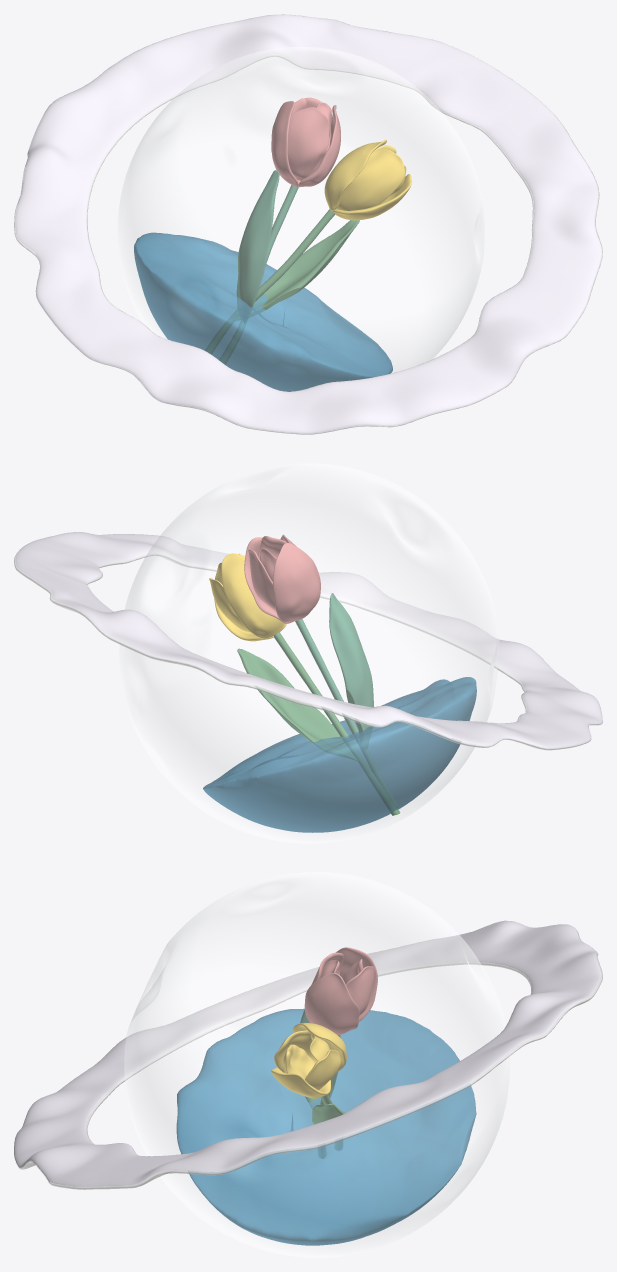
Rendered from my_planet_christina_li.glb.
3 views of the same model, one above another, from view 1: azimuth 30°, elevation 25°; view 2: azimuth 150°, elevation 25°; view 3: azimuth 270°, elevation 25° (orthographic). The views are drawn at different scales.
Visible parts, largest first — view 1: Sphere_6, Cylinder_8, Sphere 2_7, flower_3, flower 2_4, stem_2, stem 2_5; view 2: Sphere_6, Cylinder_8, Sphere 2_7, flower_3, stem 2_5, stem_2, flower 2_4; view 3: Sphere_6, Sphere 2_7, Cylinder_8, flower_3, flower 2_4, stem 2_5.
Part boxes in pixels (left/top/right/bottom): Sphere_6: left=118, top=47, right=484, bottom=391; Cylinder_8: left=14, top=14, right=602, bottom=434; Sphere 2_7: left=134, top=232, right=392, bottom=391; flower_3: left=271, top=97, right=340, bottom=187; flower 2_4: left=324, top=139, right=411, bottom=220; stem_2: left=219, top=170, right=298, bottom=364; stem 2_5: left=205, top=208, right=359, bottom=353; Sphere_6: left=119, top=463, right=498, bottom=843; Cylinder_8: left=14, top=532, right=602, bottom=750; Sphere 2_7: left=203, top=677, right=476, bottom=832; flower_3: left=244, top=534, right=320, bottom=623; stem 2_5: left=237, top=632, right=400, bottom=815; stem_2: left=295, top=593, right=398, bottom=806; flower 2_4: left=209, top=553, right=286, bottom=641; Sphere_6: left=124, top=872, right=509, bottom=1257; Sphere 2_7: left=176, top=1008, right=476, bottom=1245; Cylinder_8: left=14, top=920, right=602, bottom=1189; flower_3: left=304, top=947, right=377, bottom=1034; flower 2_4: left=271, top=1023, right=346, bottom=1098; stem 2_5: left=312, top=1094, right=345, bottom=1149.
Bounding box in the file's own units: 2.89 × 1.82 × 2.77.
